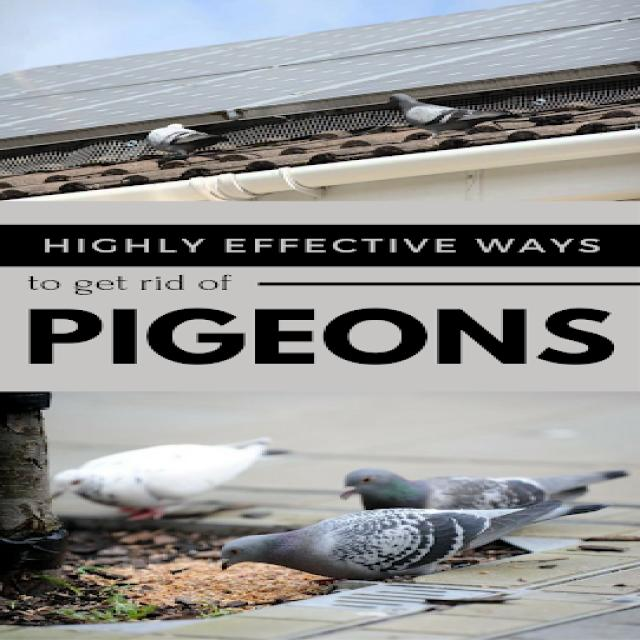bird: (218, 500, 608, 587), (48, 436, 273, 524), (339, 467, 630, 515), (384, 93, 518, 140), (143, 122, 232, 162), (504, 130, 542, 143), (528, 98, 548, 110)
